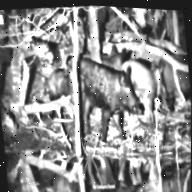boar: (63, 39, 148, 148)
